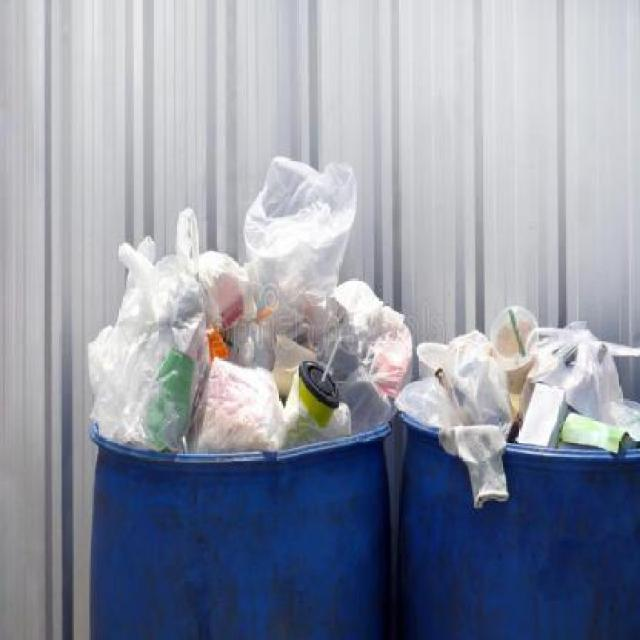garbage container: (79, 412, 393, 639), (395, 401, 639, 639)
